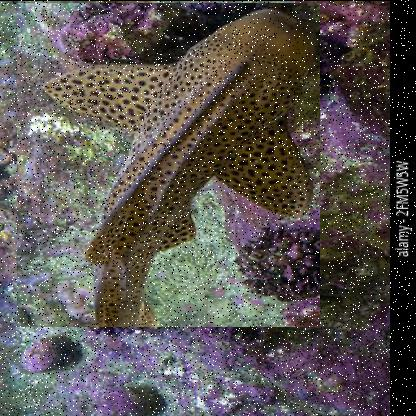zebra_shark: (17, 1, 321, 326)
